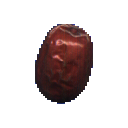gd: (29, 14, 108, 113)
